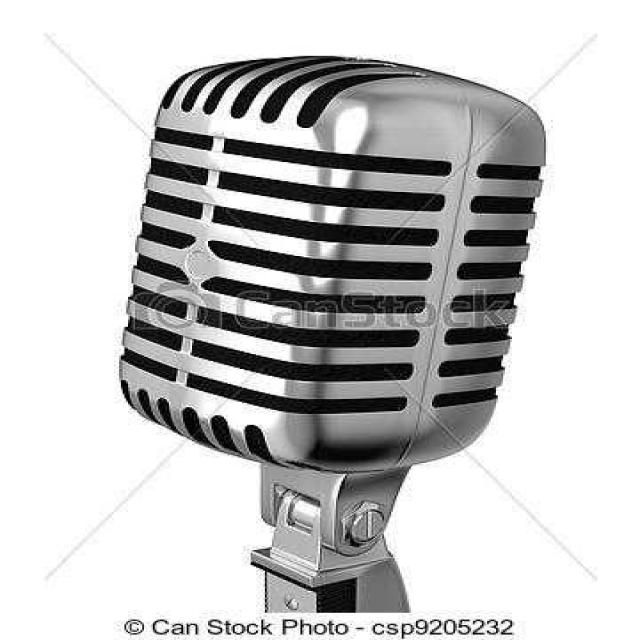microphone: (120, 63, 540, 613)
